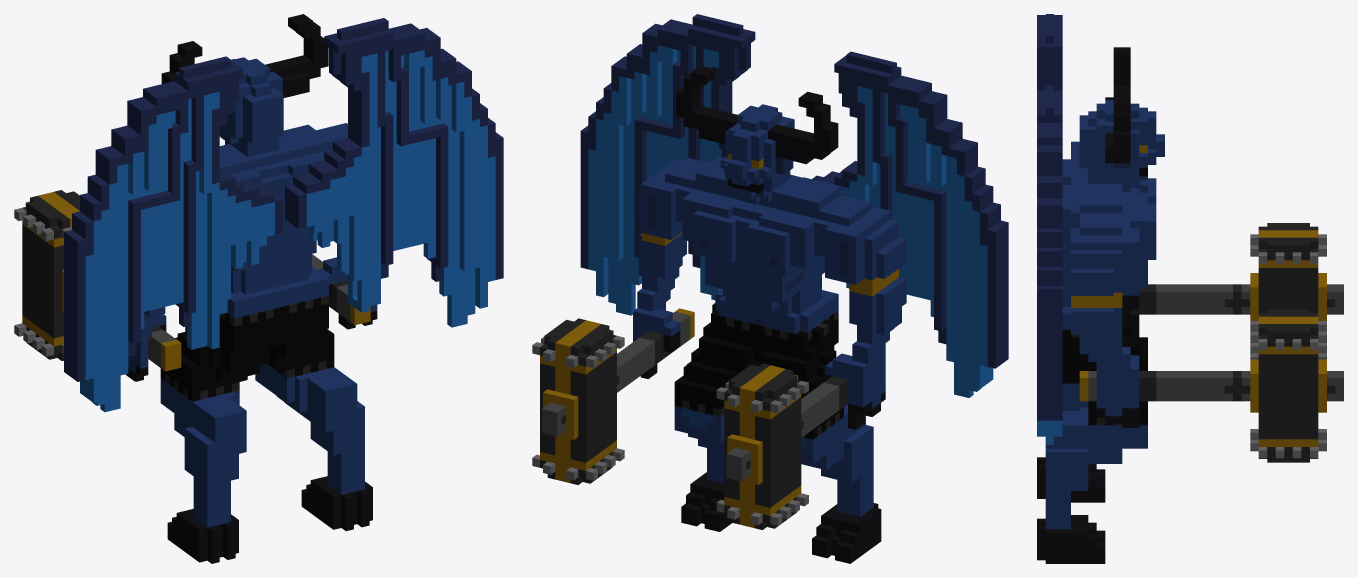
The model's file is blue_daemon.glb.
The picture shows the model from 3 angles, left to right: view 1: azimuth 30°, elevation 25°; view 2: azimuth 150°, elevation 25°; view 3: azimuth 270°, elevation 25°; orthographic projection. The views are drawn at different scales.
Bounding box in the file's own units: 1.08 × 1.2 × 0.72.
